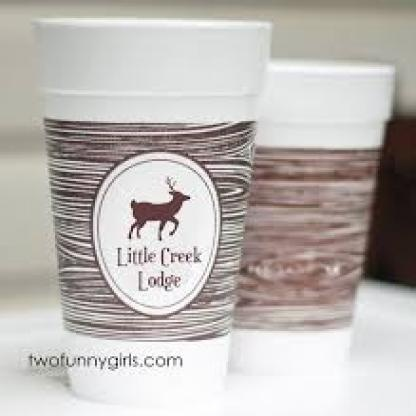trash: (38, 19, 270, 339), (235, 61, 394, 329)
